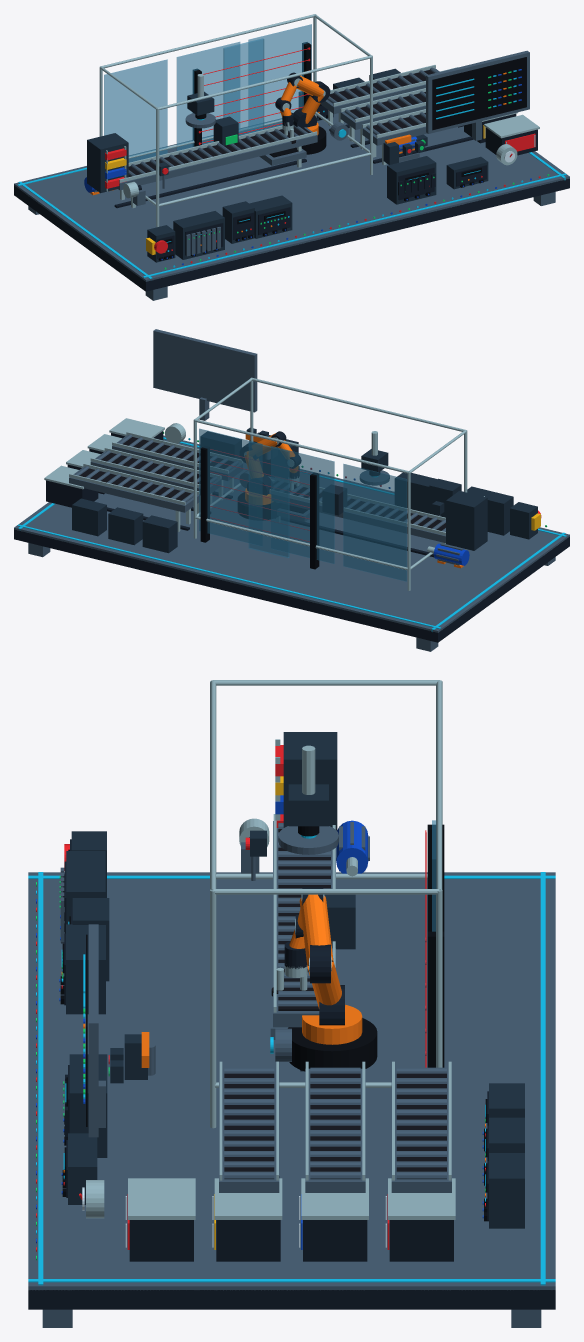
Rendered from Level65_Complete_ArtKit_Showcase.fbx.
3 views of the same model, one above another, from view 1: azimuth 30°, elevation 25°; view 2: azimuth 150°, elevation 25°; view 3: azimuth 270°, elevation 25° (orthographic). The views are drawn at different scales.
Visible parts, largest first — view 1: TopFrame_1, HeavyWorkstationBase_0, SafetyGlass_12, ControlCabinet_0 (×6), MonitorScreen_1, SafetyGlass_14, SafetyGlass_13, SafetyDoor_15, BeltFrame_0 (×4), BeltSurface_1 (×3), FrontPanel_1 (×4), MonitorFrame_0 (+17 smaller); view 2: TopFrame_1, ControlCabinet_0 (×8), SafetyGlass_12, MonitorFrame_0, SafetyGlass_14, SafetyGlass_13, HeavyWorkstationBase_0, SafetyDoor_15, BeltFrame_0 (×4), BeltSurface_1 (×4), FeederHousing_0, GuideRail_2 (×4) (+16 smaller); view 3: TopFrame_1, ControlCabinet_0 (×9), BinShell_0 (×4), HeavyWorkstationBase_0, BeltSurface_1 (×4), BinRim_1 (×4), BeltFrame_0 (×4), FeederHousing_0, RobotBase_0, LightStrip_4, LightStrip_5, MonitorFrame_0 (+19 smaller).
Part boxes in pixels (x1,y1,x2,y2): TopFrame_1: [14, 113, 569, 281]; HeavyWorkstationBase_0: [14, 178, 569, 291]; SafetyGlass_12: [104, 59, 167, 162]; ControlCabinet_0 (×6): [147, 156, 488, 262]; MonitorScreen_1: [432, 57, 526, 130]; SafetyGlass_14: [248, 24, 311, 132]; SafetyGlass_13: [176, 42, 240, 150]; SafetyDoor_15: [223, 38, 264, 135]; BeltFrame_0 (×4): [117, 68, 439, 190]; BeltSurface_1 (×3): [128, 70, 433, 176]; FrontPanel_1 (×4): [185, 167, 434, 255]; MonitorFrame_0: [426, 50, 529, 133]; TopFrame_1: [14, 435, 569, 632]; ControlCabinet_0 (×8): [72, 431, 537, 553]; SafetyGlass_12: [343, 464, 406, 581]; MonitorFrame_0: [153, 329, 257, 412]; SafetyGlass_14: [199, 428, 262, 546]; SafetyGlass_13: [271, 446, 334, 563]; HeavyWorkstationBase_0: [14, 529, 569, 642]; SafetyDoor_15: [248, 442, 289, 557]; BeltFrame_0 (×4): [69, 435, 445, 543]; BeltSurface_1 (×4): [79, 437, 445, 530]; FeederHousing_0: [446, 491, 487, 550]; GuideRail_2 (×4): [69, 442, 445, 535]; TopFrame_1: [28, 872, 555, 1290]; ControlCabinet_0 (×9): [66, 831, 524, 1228]; BinShell_0 (×4): [129, 1220, 453, 1261]; HeavyWorkstationBase_0: [28, 1290, 555, 1309]; BeltSurface_1 (×4): [224, 829, 446, 1171]; BinRim_1 (×4): [128, 1178, 455, 1219]; BeltFrame_0 (×4): [219, 821, 451, 1192]; FeederHousing_0: [283, 732, 337, 846]; RobotBase_0: [288, 1018, 377, 1071]; LightStrip_4: [540, 872, 545, 1285]; LightStrip_5: [38, 872, 43, 1285]; MonitorFrame_0: [88, 924, 98, 1137].
Bounding box in the file's own units: 11.7 × 3.96 × 6.3.
